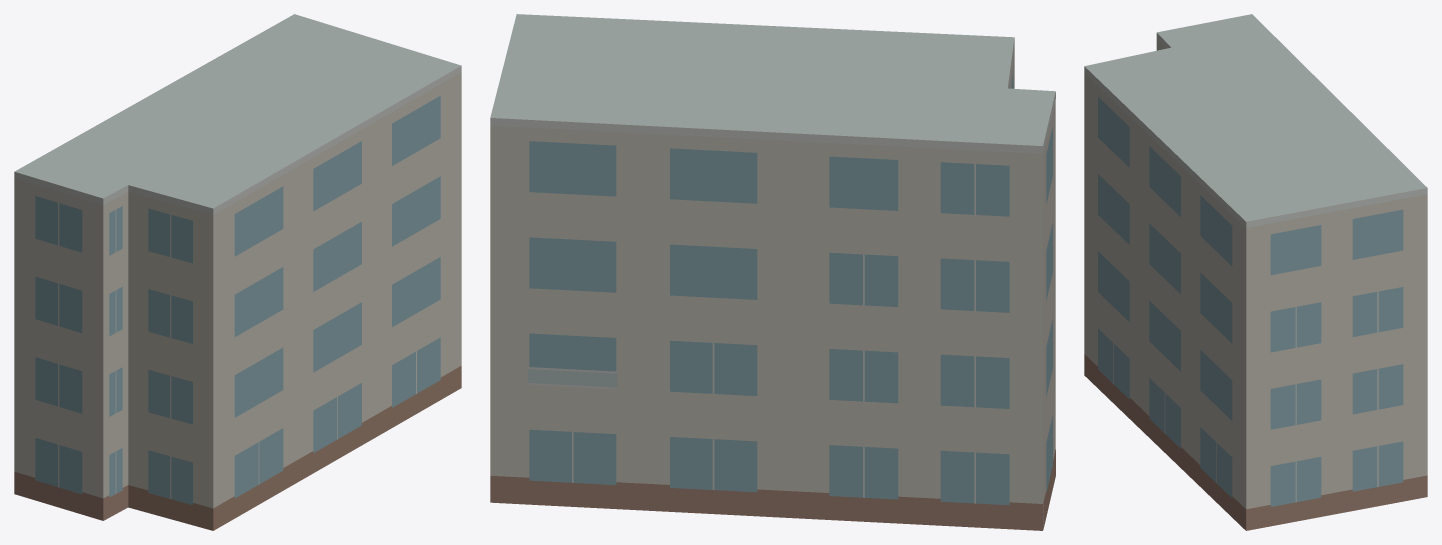
File: survey-upis-32716647.glb
3 renders of one model, left to right at view 1: azimuth 30°, elevation 25°; view 2: azimuth 150°, elevation 25°; view 3: azimuth 270°, elevation 25°, orthographic. The views are drawn at different scales.
Visible parts, largest first — view 1: survey-upis-32716647.tmp; view 2: survey-upis-32716647.tmp; view 3: survey-upis-32716647.tmp.
Boxes of the visible parts, bbox=[...] form: survey-upis-32716647.tmp: bbox=[14, 14, 461, 530]; survey-upis-32716647.tmp: bbox=[490, 14, 1055, 530]; survey-upis-32716647.tmp: bbox=[1084, 14, 1427, 530].
Size of the model in its own units: 17.46 by 12.1 by 12.19.
